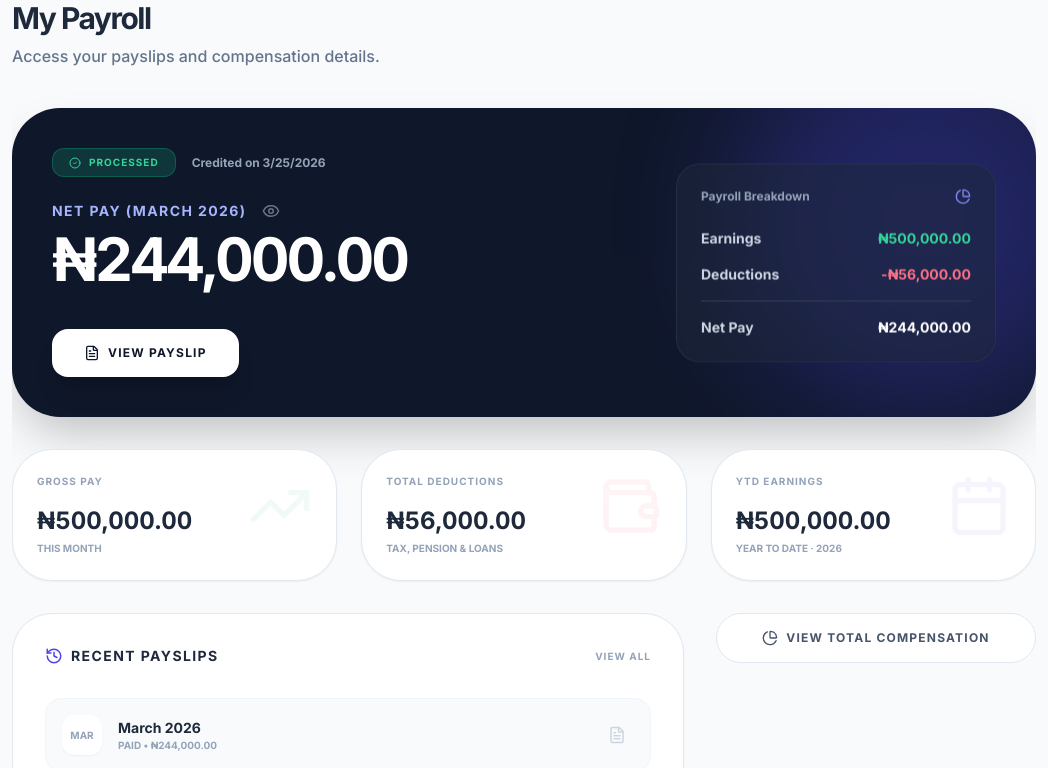
Test: MyPayroll › Payslip detail — amount in words › spells 244000 as "Two Hundred Forty-Four Thousand Naira Only"
Step 1. Click the button "View Payslip" → (145, 353), box left=52, top=329, right=239, bottom=377
(page scrolled)
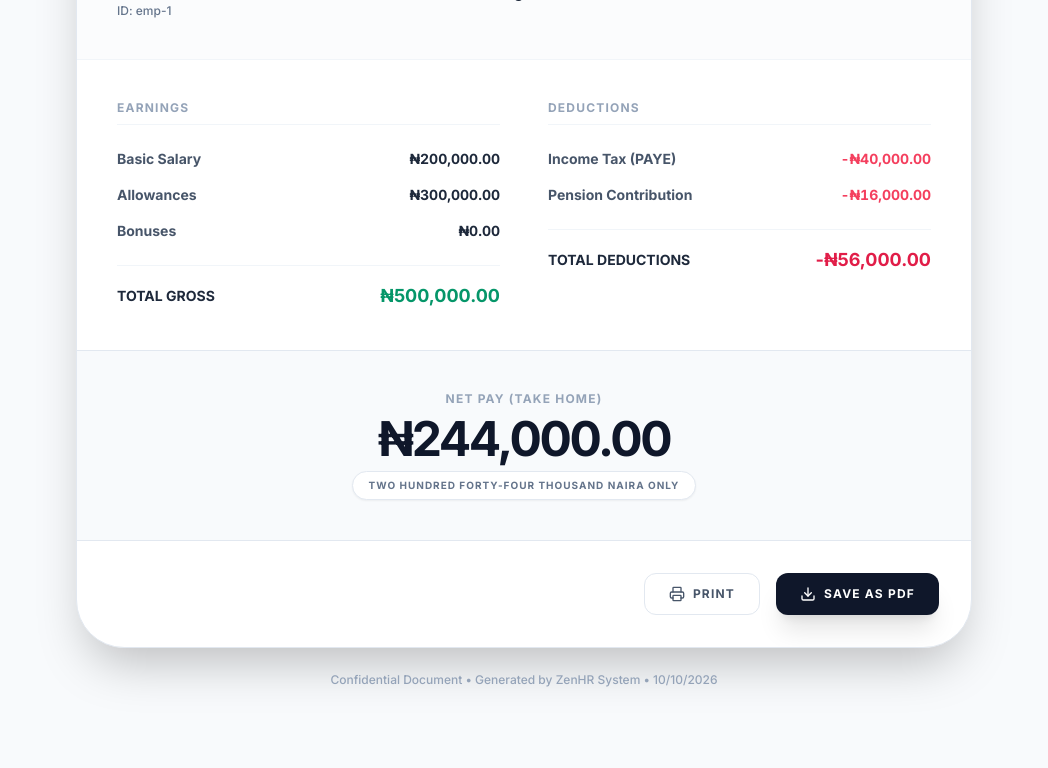
Check: the text "Two Hundred Forty-Four Thousand Naira Only" is shown, box left=352, top=471, right=696, bottom=500
